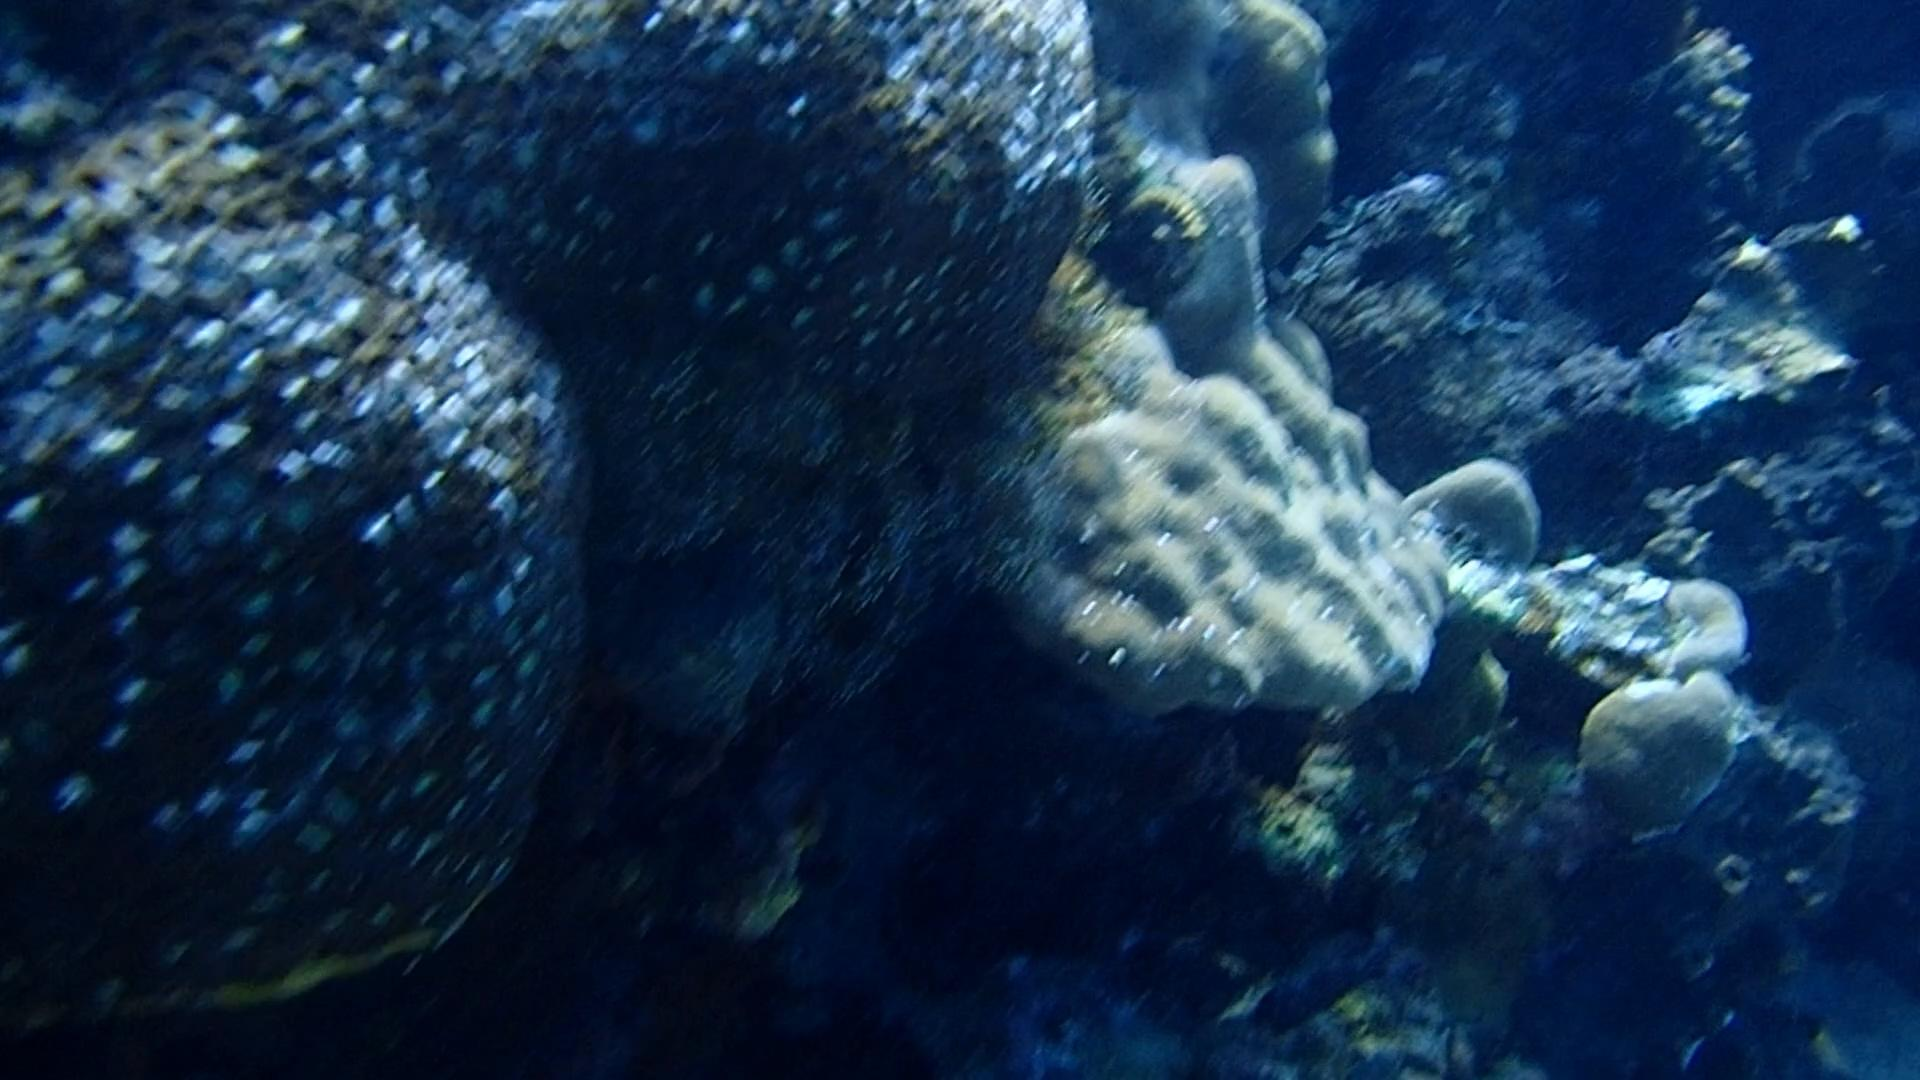Dark Fish: (1342, 214, 1464, 302)
